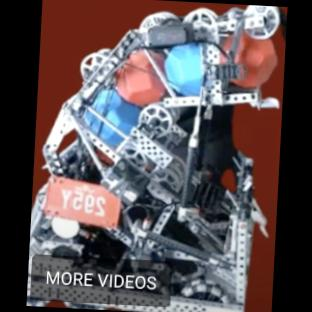Robot: (28, 5, 281, 312)
